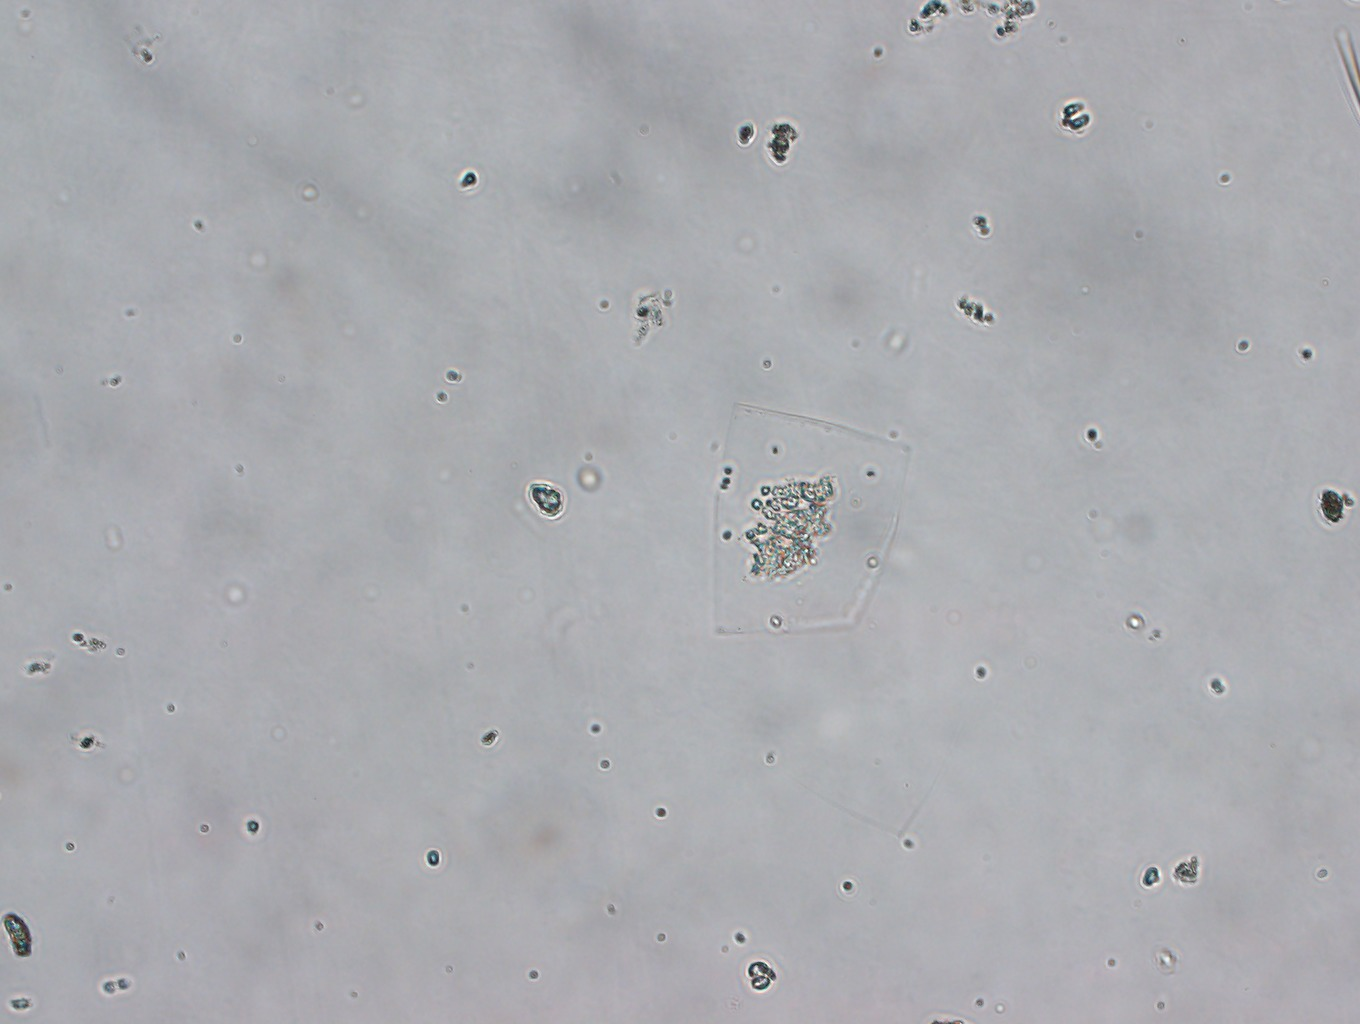helicotheca: (695, 382, 915, 648)
